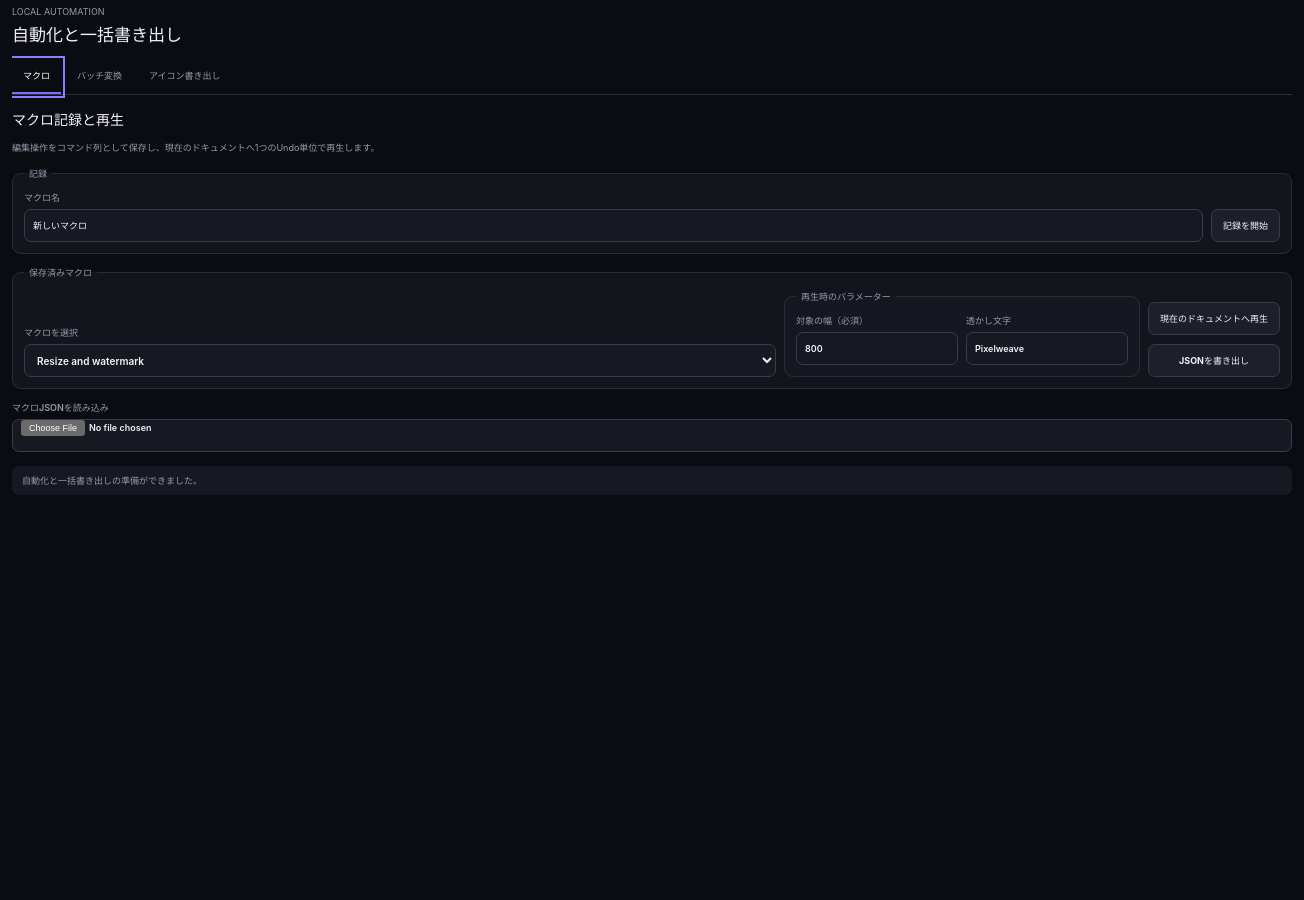
Test case: AutomationBatchPanel › supports arrow-key tab navigation and reports invalid batch input
Press Arrowright
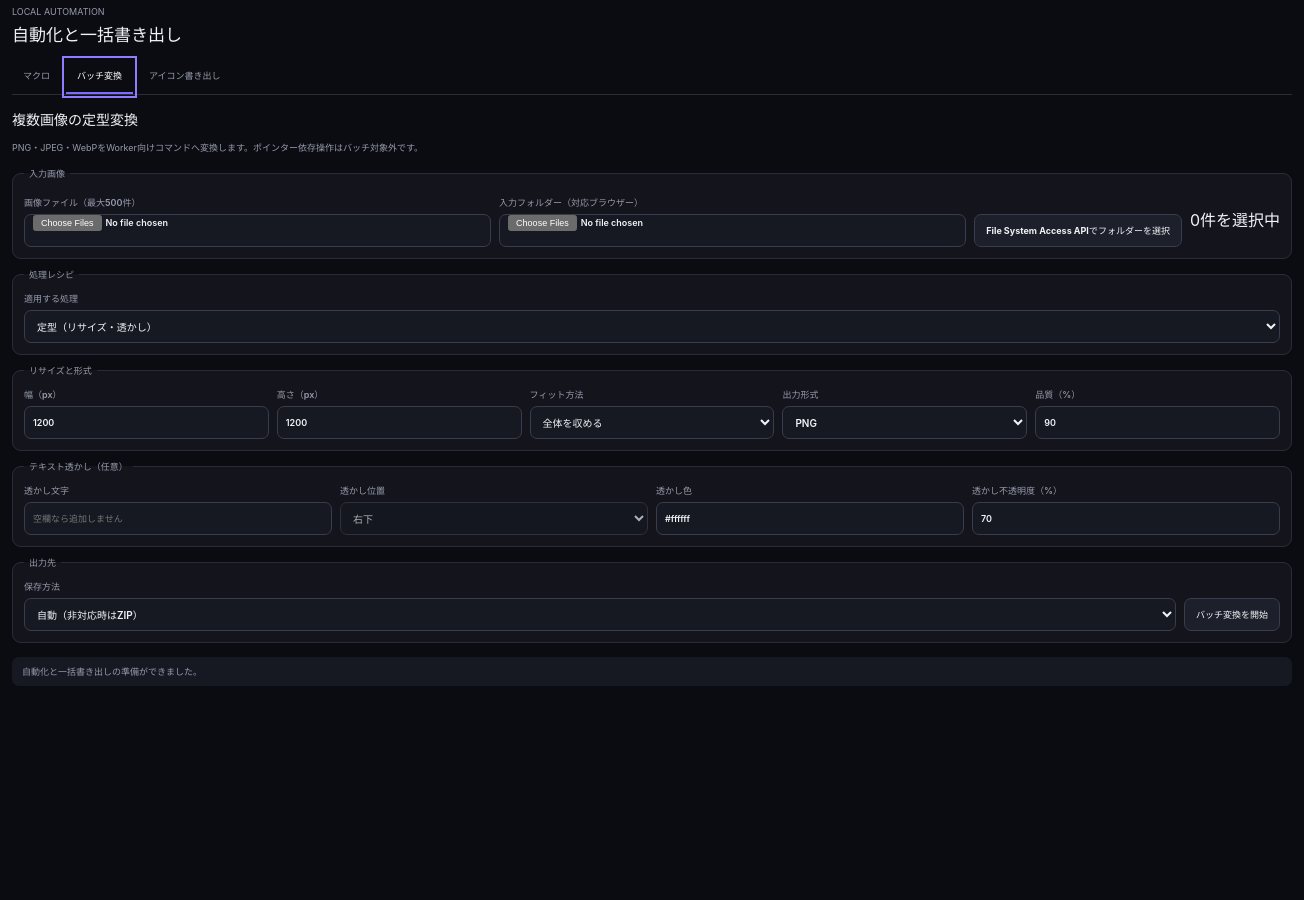
Now the panel named "バッチ変換" is shown, box [12,109,1292,643]
Click the button "バッチ変換を開始" at {"x": 1232, "y": 615}, box [1184,598,1280,631]
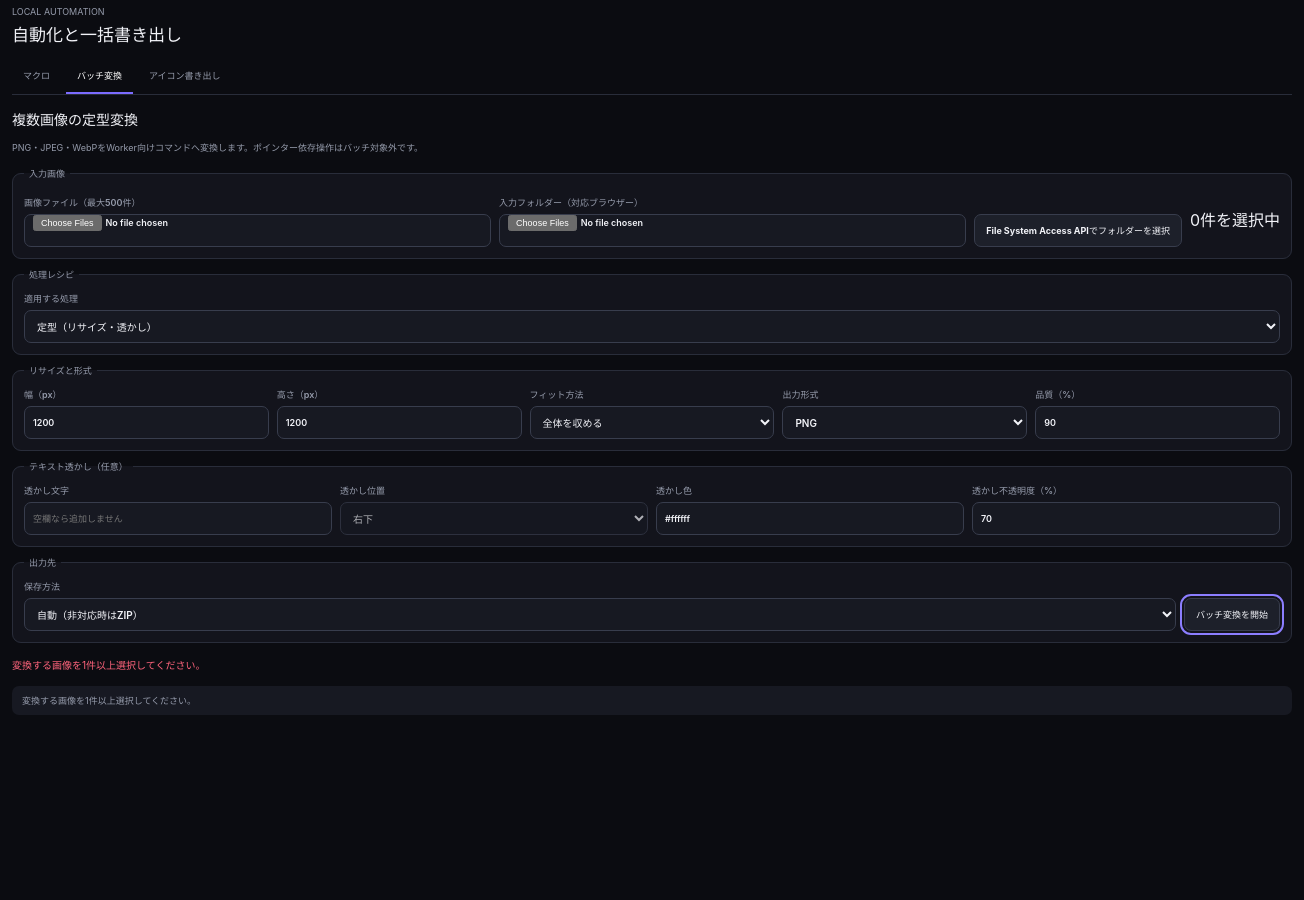
Now the 1st message "変換する画像を1件以上選択してください。" is shown, box [12,659,206,671]
